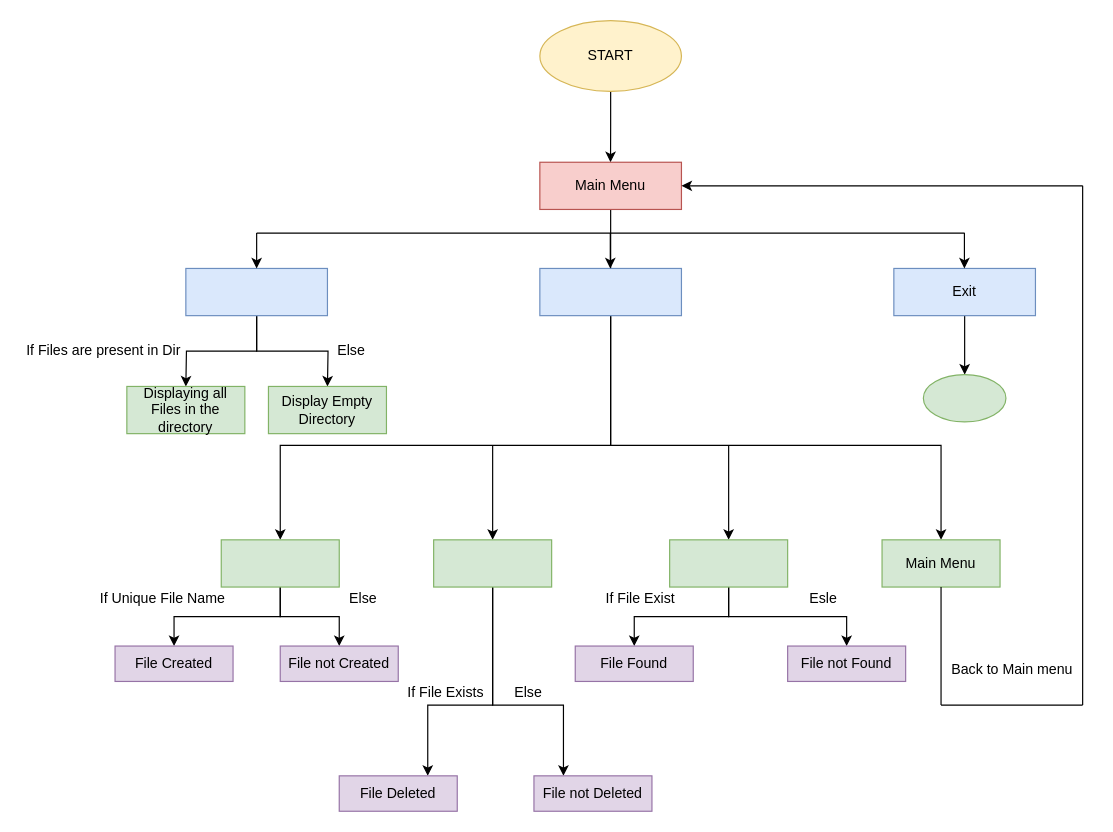
This 1113x832 diagram has some shape labels left out. Each missing label, with the centre of its shape:
Create New File: the point at 279,563
Delete File: the point at 492,563
End: the point at 964,397
List All Files: the point at 256,291
More Options: the point at 610,291
Search File: the point at 728,563
